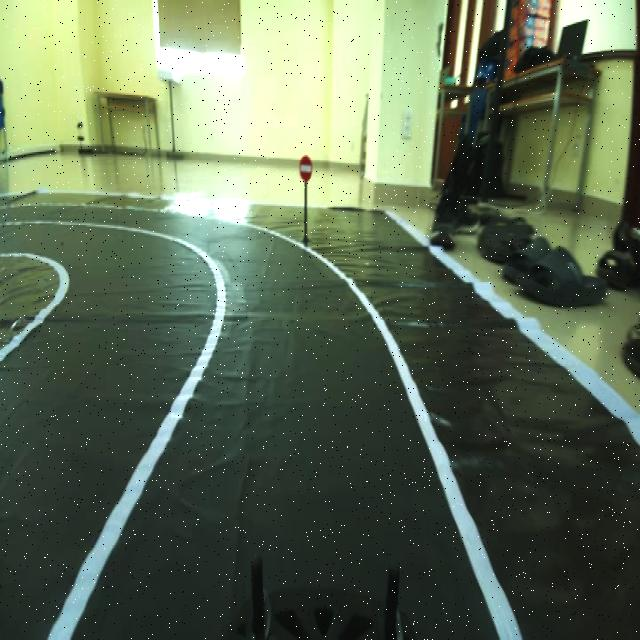no_entry: (295, 148, 315, 185)
